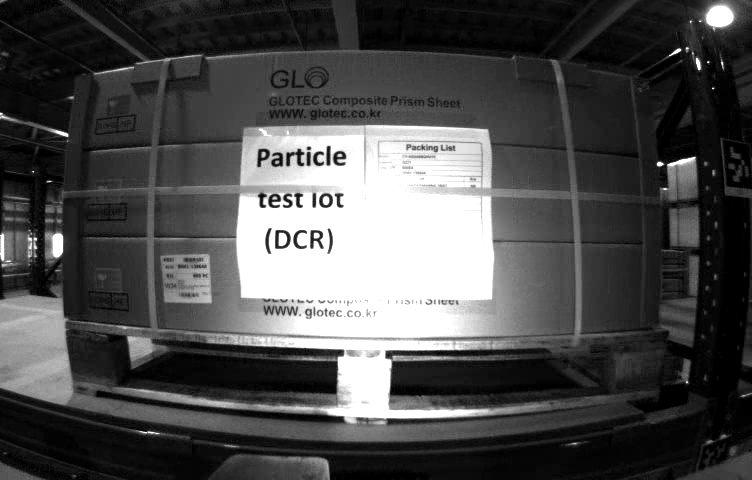True Barcode: (156, 253, 212, 301)
